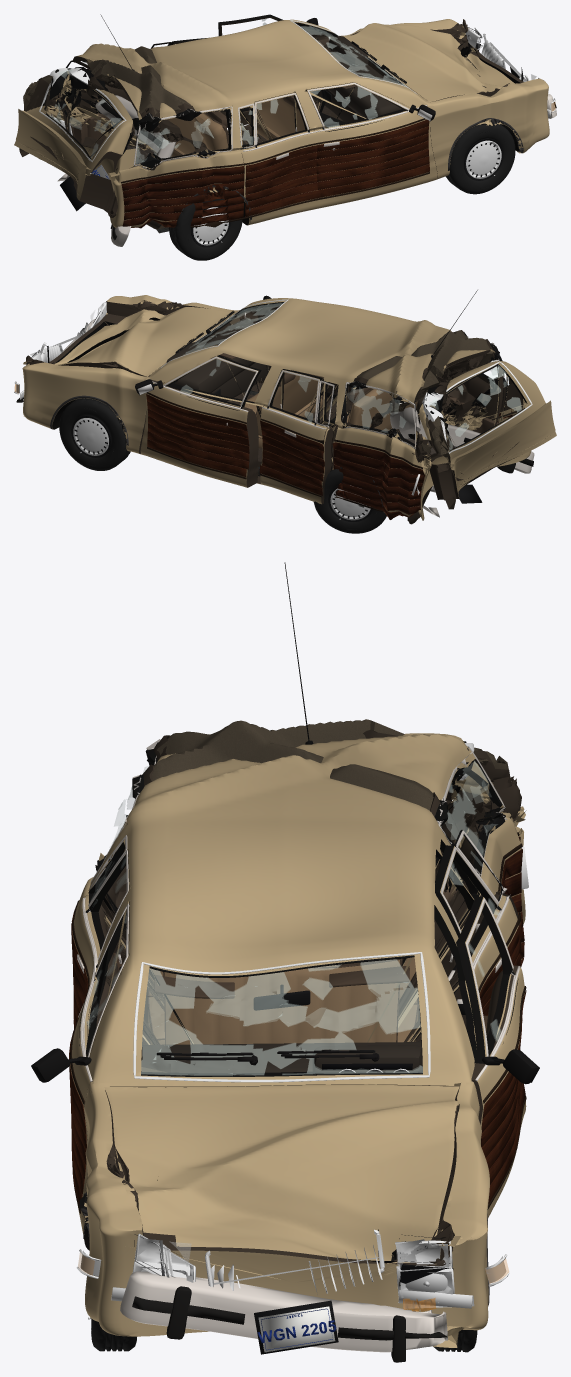
File: wagon82_rear_d2_lod1.glb
3 views of the same model, one above another, from view 1: azimuth 30°, elevation 25°; view 2: azimuth 150°, elevation 25°; view 3: azimuth 270°, elevation 25° (orthographic). The views are drawn at different scales.
Visible parts, largest first — view 1: Body, Tailgate, Trim, Trim_FR, Interior, Hood, Trim_RR, Wheel_FR_mesh, Door_FR, Glass, Wheel_RR_mesh, Door_RR (+6 smaller); view 2: Body, Tailgate, Interior, Trim_FL, Hood, Trim, Trim_RL, Door_FL, Wheel_FL_mesh, Glass, Door_RL, Wheel_RL_mesh (+5 smaller); view 3: Body, Hood, Interior, Glass, Bumper_F, Ends, Trim_FL, Door_FL, Trim, Trim_FR, Door_RL, Door_FR (+4 smaller).
Boxes of the visible parts, box(x1,y1,x2,y2) form: Body: box(38, 19, 549, 229); Tailgate: box(14, 67, 134, 217); Trim: box(48, 14, 523, 228); Trim_FR: box(307, 82, 435, 199); Interior: box(70, 36, 401, 159); Hood: box(344, 23, 514, 101); Trim_RR: box(238, 93, 320, 217); Wheel_FR_mesh: box(445, 124, 515, 194); Door_FR: box(306, 82, 437, 207); Glass: box(66, 20, 417, 168); Wheel_RR_mesh: box(169, 191, 242, 260); Door_RR: box(239, 92, 319, 224); Body: box(22, 295, 530, 524); Tailgate: box(419, 361, 556, 509); Interior: box(166, 317, 499, 454); Trim_FL: box(135, 356, 257, 479); Hood: box(55, 307, 236, 376); Trim: box(50, 290, 515, 519); Trim_RL: box(259, 370, 334, 497); Door_FL: box(140, 355, 261, 487); Wheel_FL_mesh: box(59, 398, 130, 470); Glass: box(159, 299, 509, 448); Door_RL: box(260, 369, 333, 504); Wheel_RL_mesh: box(313, 469, 386, 533); Body: box(75, 719, 526, 1347); Hood: box(104, 1084, 459, 1260); Interior: box(141, 881, 457, 1073); Glass: box(97, 742, 505, 1082); Bumper_F: box(120, 1271, 447, 1362); Ends: box(76, 847, 528, 1354); Trim_FL: box(465, 898, 539, 1209); Door_FL: box(456, 896, 526, 1217); Trim: box(71, 562, 524, 1306); Trim_FR: box(31, 903, 129, 1213); Door_RL: box(435, 845, 520, 1028); Door_FR: box(70, 902, 129, 1230).
Bounding box in the file's own units: 4.65 × 2.13 × 2.15.
34 materials, 6 textured.
